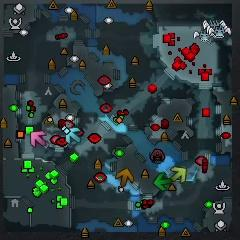x1: (30, 132, 47, 146)
x2: (171, 166, 187, 181)
x3: (65, 128, 82, 142)
x4: (155, 174, 171, 191)
x5: (117, 169, 133, 185)
